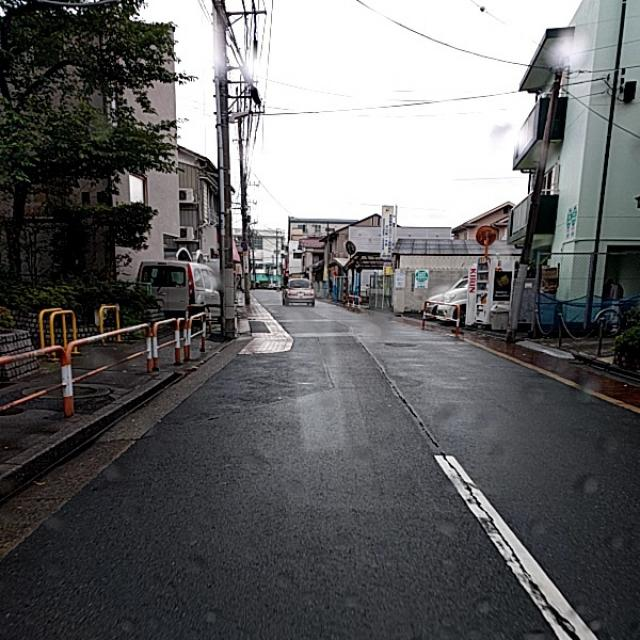pothole: (450, 471, 500, 536)
